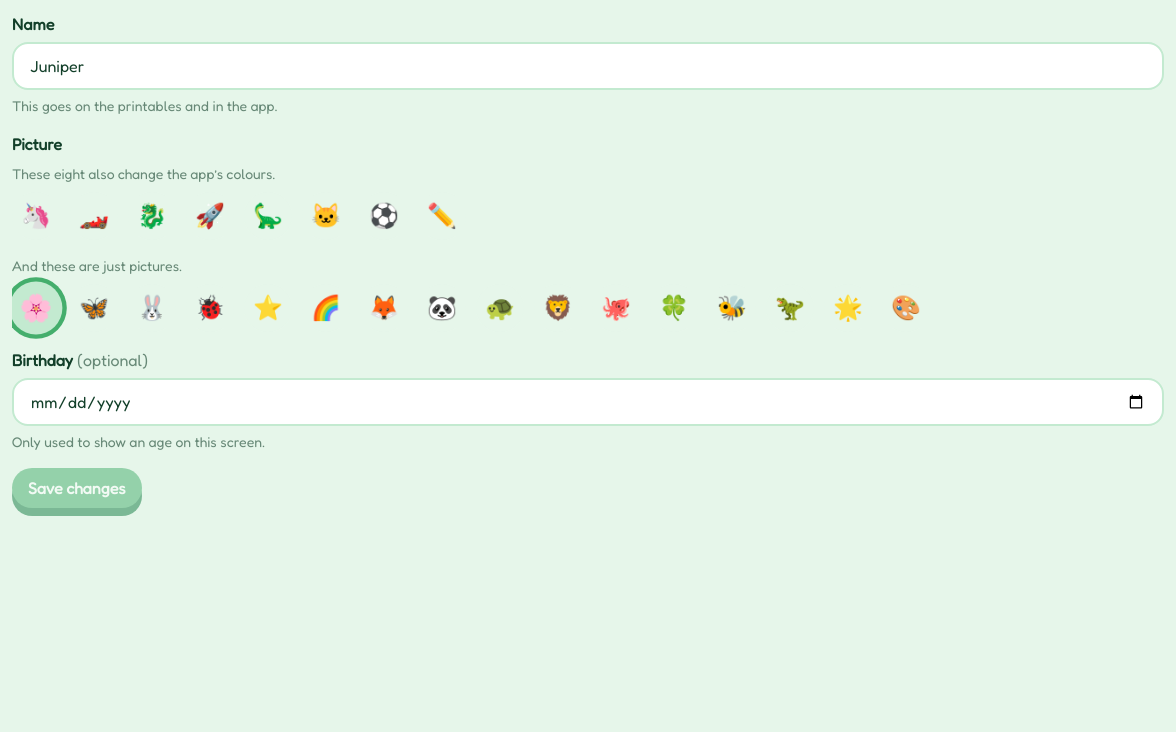
it: editing a child › says so when the save fails
The image size is (1176, 732).
Replace the text in the field labelled "Name This goes on the printables and in the app." with "Xanthi" at (588, 66), box x1=12 y1=42 x2=1164 y2=90
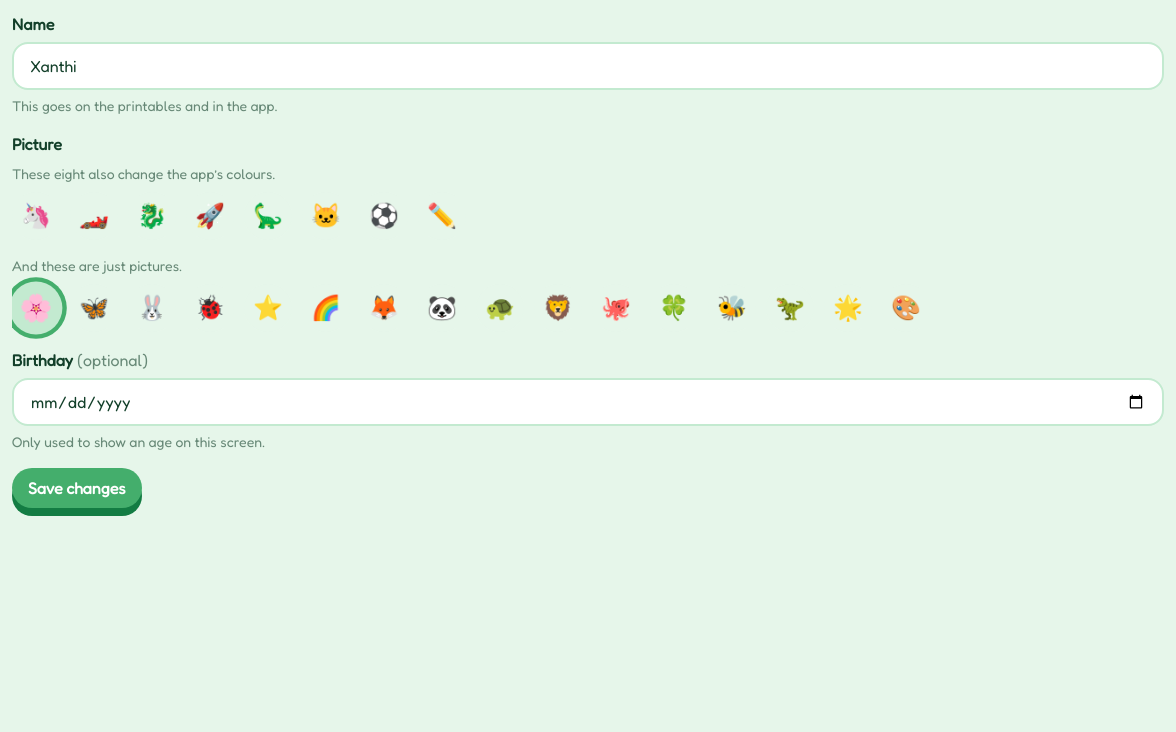
Click the button "Save changes" at (77, 488), box x1=12 y1=468 x2=142 y2=508
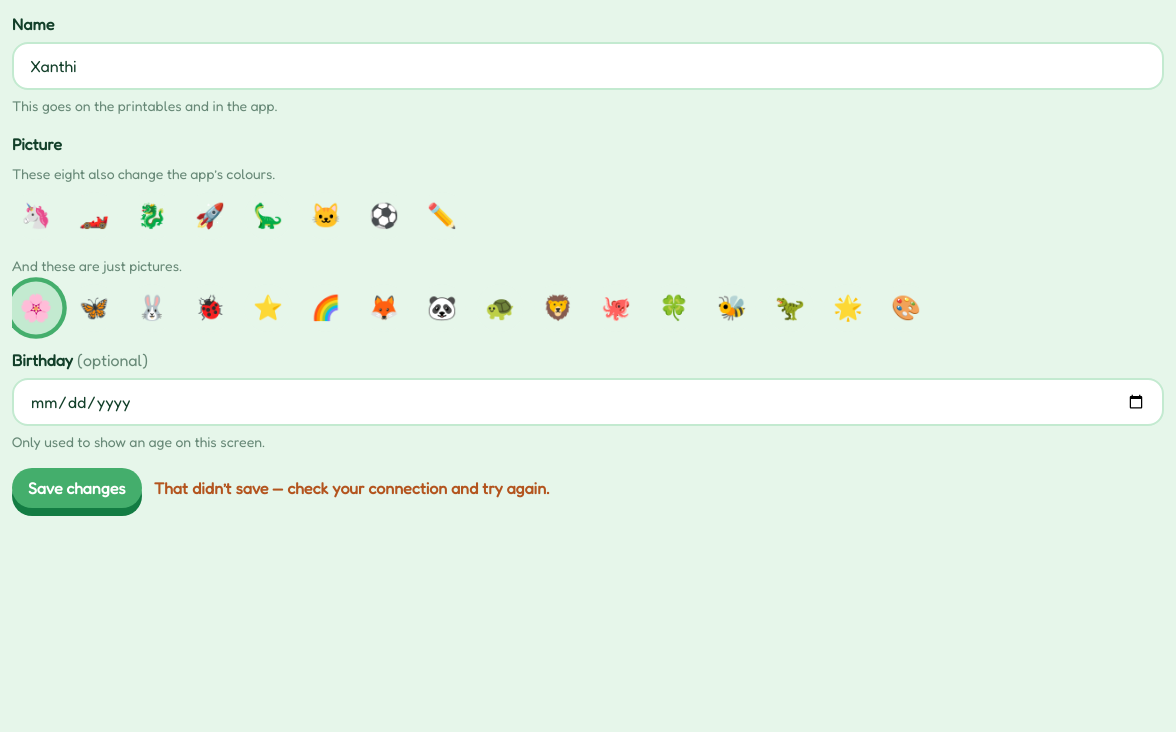
Result: the text "That didn’t save — check your connection and try again." is shown at x1=154 y1=476 x2=549 y2=500
